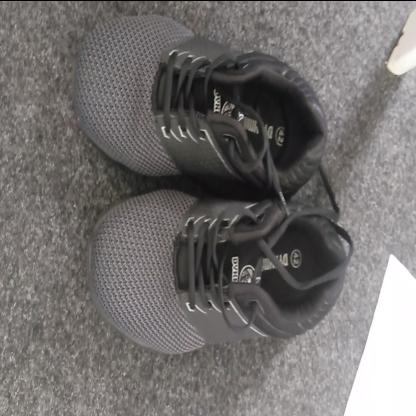safety-shoe: (73, 12, 344, 354)
